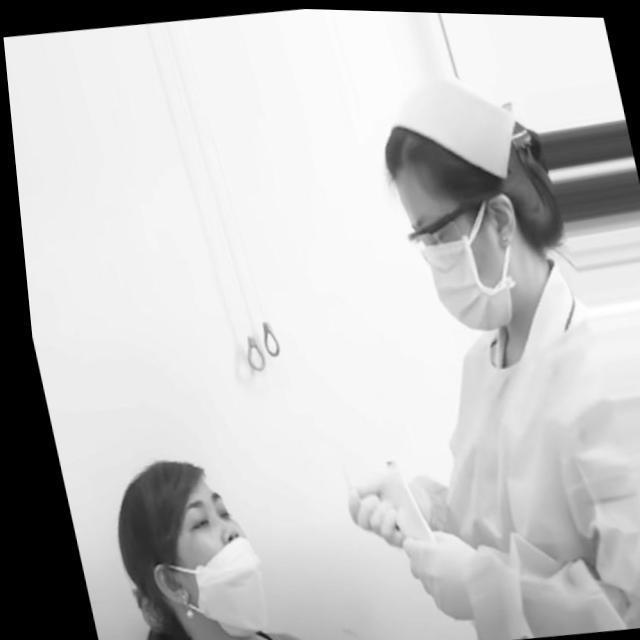hairnet: (167, 480, 258, 638)
